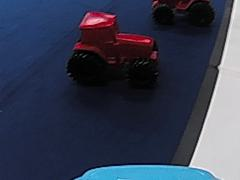Tracktor: (65, 10, 162, 85), (149, 0, 217, 26)
